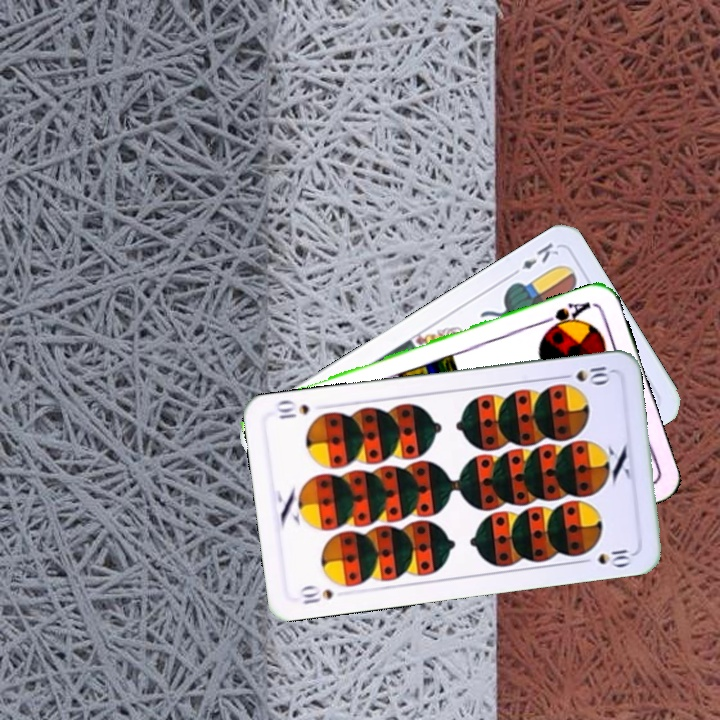EK: (506, 238, 562, 280)
S10: (555, 362, 614, 386), (296, 582, 336, 607)
SA: (537, 297, 594, 335)
